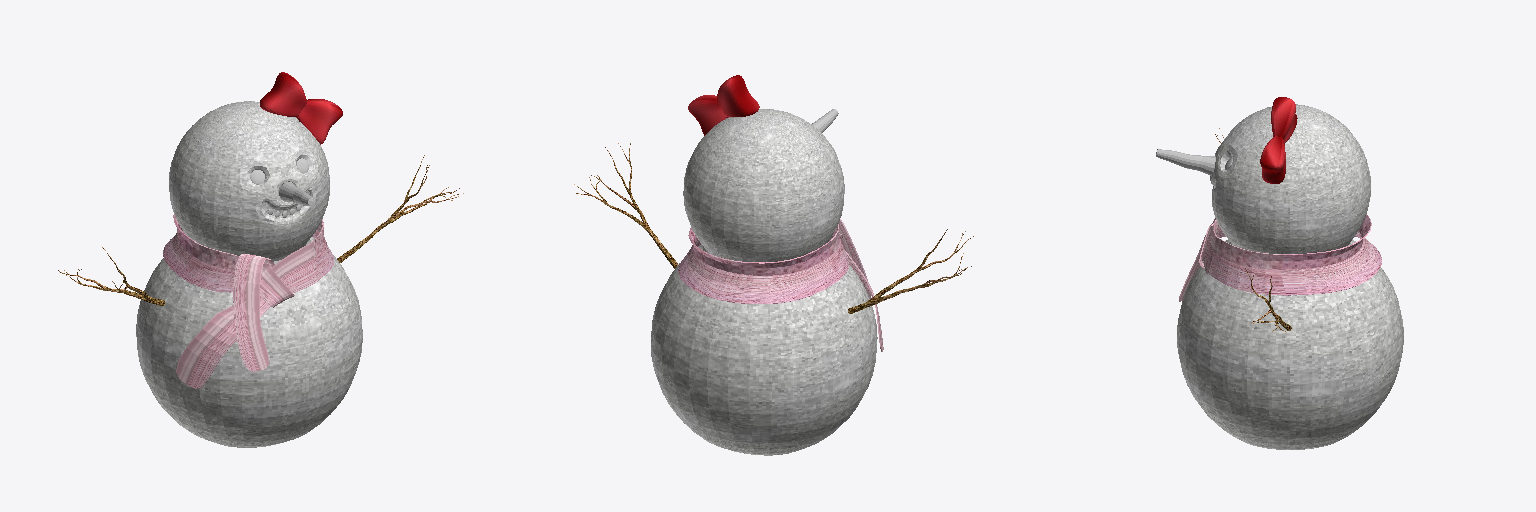
3 renders of one model, left to right at view 1: azimuth 30°, elevation 25°; view 2: azimuth 150°, elevation 25°; view 3: azimuth 270°, elevation 25°, orthographic.
Parts seen in each view (by area): view 1: body_Sphere.003, scarf_Sphere.001, bow_Cube, left_arm_tree, Right_arm_tree.001, Nose_Circle.001; view 2: body_Sphere.003, scarf_Sphere.001, bow_Cube, Right_arm_tree.001, left_arm_tree; view 3: body_Sphere.003, scarf_Sphere.001, bow_Cube, Nose_Circle.001.
Part boxes in pixels (bbox=[...]): body_Sphere.003: bbox=[136, 101, 362, 447]; scarf_Sphere.001: bbox=[163, 214, 333, 388]; bow_Cube: bbox=[260, 72, 342, 144]; left_arm_tree: bbox=[337, 155, 463, 262]; Right_arm_tree.001: bbox=[58, 247, 164, 305]; Nose_Circle.001: bbox=[279, 182, 314, 205]; body_Sphere.003: bbox=[651, 109, 877, 455]; scarf_Sphere.001: bbox=[678, 219, 883, 351]; bow_Cube: bbox=[688, 75, 759, 135]; Right_arm_tree.001: bbox=[848, 229, 973, 313]; left_arm_tree: bbox=[574, 143, 678, 268]; body_Sphere.003: bbox=[1177, 104, 1403, 449]; scarf_Sphere.001: bbox=[1179, 214, 1381, 301]; bow_Cube: bbox=[1260, 97, 1297, 183]; Nose_Circle.001: bbox=[1156, 149, 1215, 175].
Size of the model in its own units: 3.93 by 3.24 by 2.1.
7 materials, 4 textured.